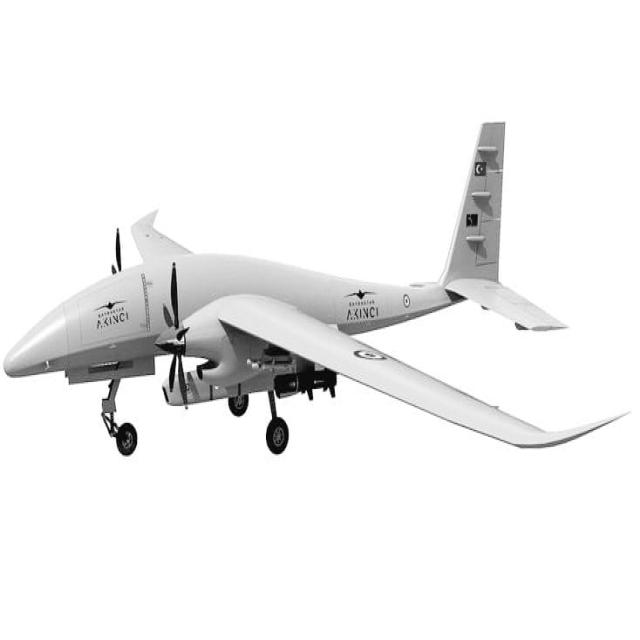iha: (3, 57, 629, 454)
